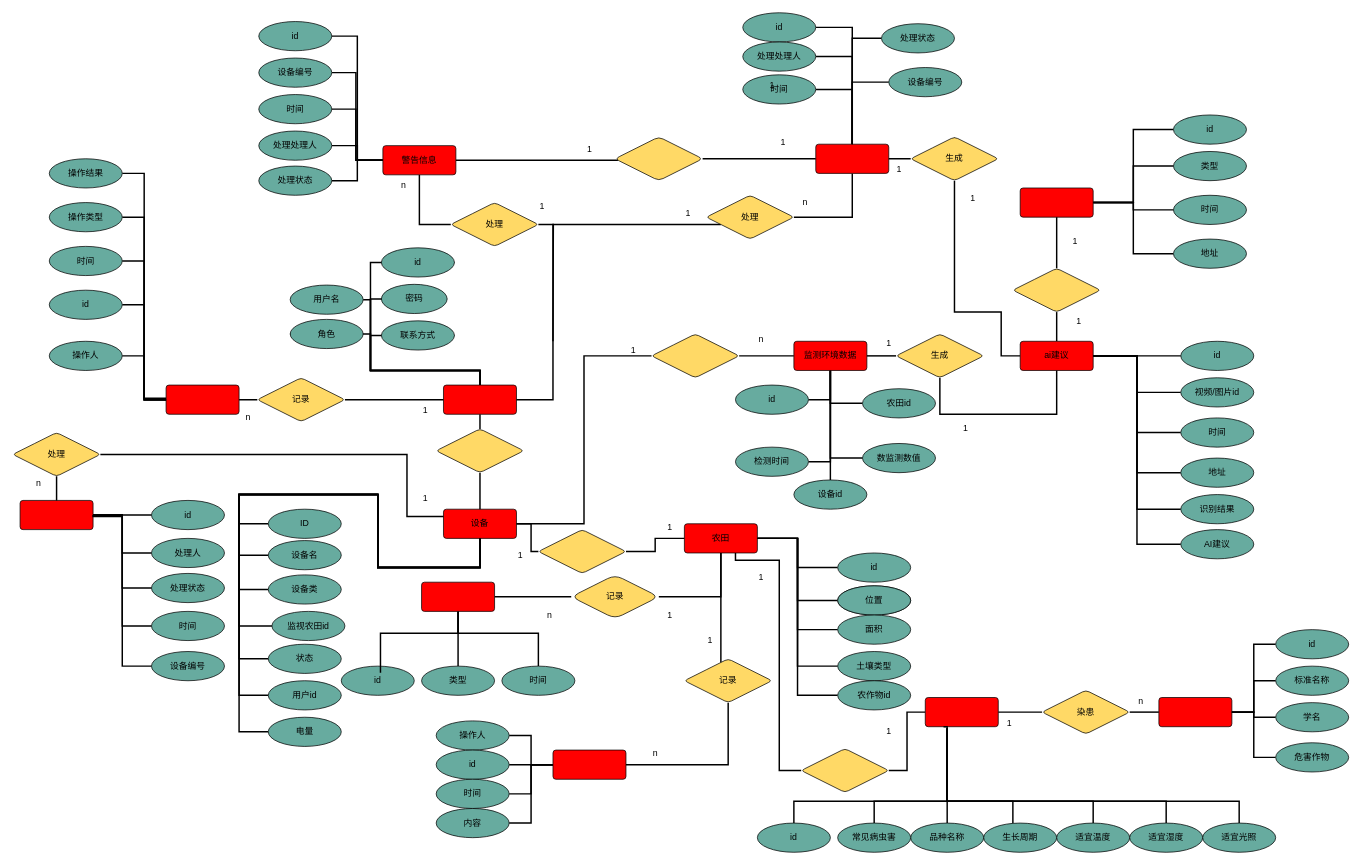
Some shapes in this 1361 by 865 pixel diagram are drawn without their labels. Each missing label, with the box of its shape:
依据: (1012, 268, 1100, 312)
农事异常信息: (815, 143, 889, 173)
农事记录: (552, 749, 626, 779)
农作物: (925, 697, 998, 727)
属于: (435, 428, 524, 473)
操作日志: (165, 384, 239, 414)
用户: (443, 384, 516, 414)
病虫历史: (421, 581, 495, 611)
病虫害: (1158, 697, 1232, 727)
监测: (651, 333, 739, 378)
监视: (538, 529, 626, 573)
种植: (800, 748, 889, 792)
视频/图片: (1019, 187, 1093, 217)
警告: (614, 136, 703, 181)
设备异常信息: (19, 500, 93, 530)
